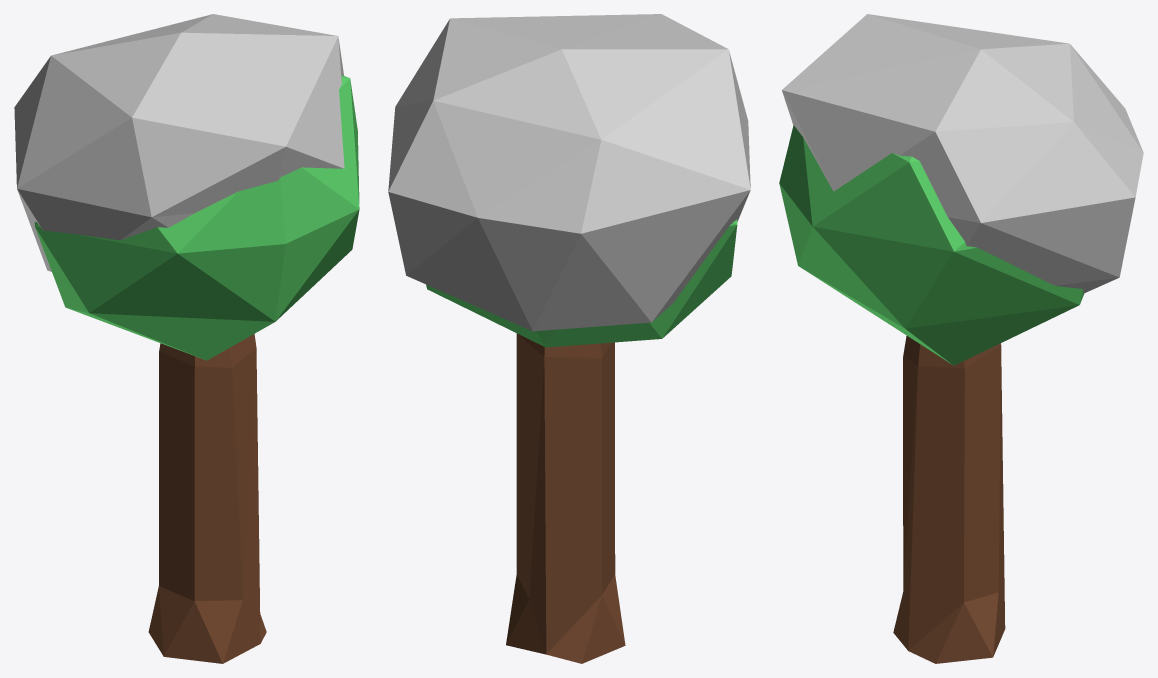
Rendered from agac2(snowy).fbx.
3 renders of one model, left to right at view 1: azimuth 30°, elevation 25°; view 2: azimuth 150°, elevation 25°; view 3: azimuth 270°, elevation 25°, orthographic. The views are drawn at different scales.
Parts seen in each view (by area): view 1: Icosphere.001, Icosphere, Cylinder; view 2: Icosphere.001, Cylinder, Icosphere; view 3: Icosphere.001, Icosphere, Cylinder.
Part boxes in pixels (bbox=[...]): Icosphere.001: bbox=[14, 14, 344, 271]; Icosphere: bbox=[34, 75, 359, 360]; Cylinder: bbox=[148, 334, 266, 663]; Icosphere.001: bbox=[388, 14, 750, 331]; Cylinder: bbox=[506, 333, 625, 663]; Icosphere: bbox=[426, 219, 737, 347]; Icosphere.001: bbox=[782, 14, 1143, 293]; Icosphere: bbox=[779, 125, 1083, 365]; Cylinder: bbox=[893, 336, 1005, 663].
Size of the model in its own units: 196 by 329 by 186.
